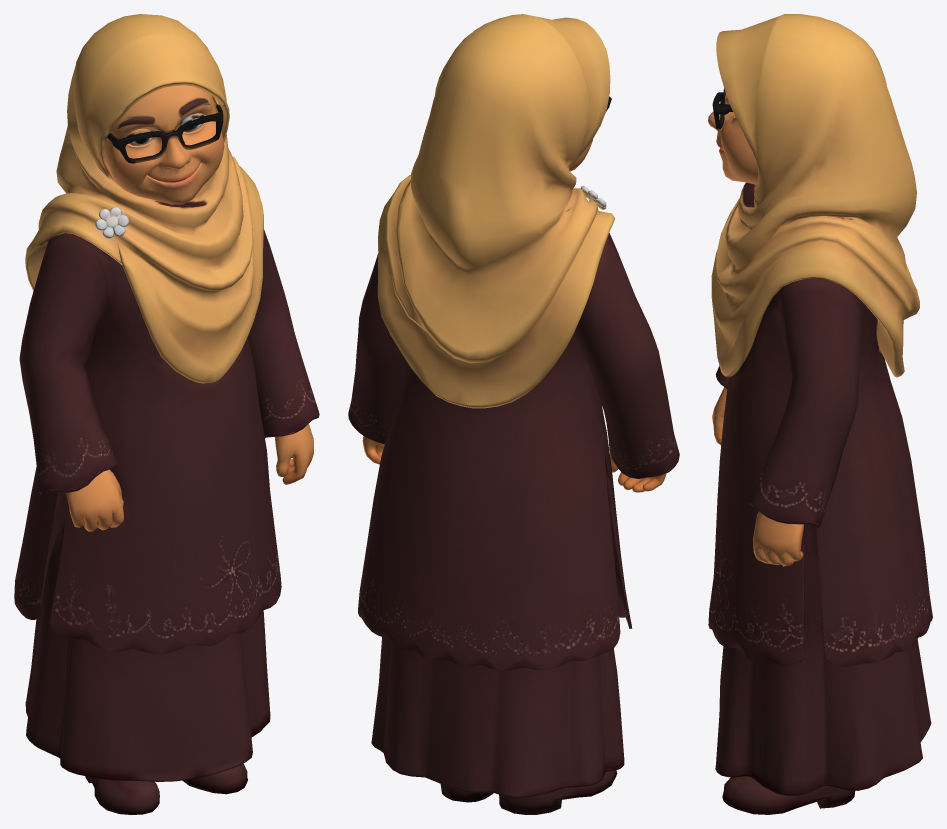
File: NekMa_source.glb
The picture shows the model from 3 angles, left to right: view 1: azimuth 30°, elevation 25°; view 2: azimuth 150°, elevation 25°; view 3: azimuth 270°, elevation 25°; orthographic projection.
Visible parts, largest first — view 1: f8c73c47_50f1_4863_9882_22de70fa3ebf; view 2: f8c73c47_50f1_4863_9882_22de70fa3ebf; view 3: f8c73c47_50f1_4863_9882_22de70fa3ebf.
Part boxes in pixels (x1,y1,x2,y2): f8c73c47_50f1_4863_9882_22de70fa3ebf: (14,14,319,814); f8c73c47_50f1_4863_9882_22de70fa3ebf: (348,14,679,814); f8c73c47_50f1_4863_9882_22de70fa3ebf: (708,14,932,814).
Size of the model in its own units: 0.4087 by 0.9995 by 0.269.
1 material, 1 textured.
